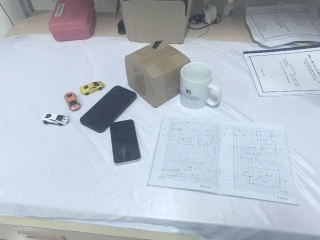box: (125, 42, 191, 108), (118, 1, 191, 46), (47, 1, 97, 44)
cup: (178, 61, 223, 110)
phone: (79, 84, 137, 134), (109, 119, 141, 165)
toy_car: (80, 81, 105, 96), (42, 113, 70, 126), (64, 91, 81, 111)
